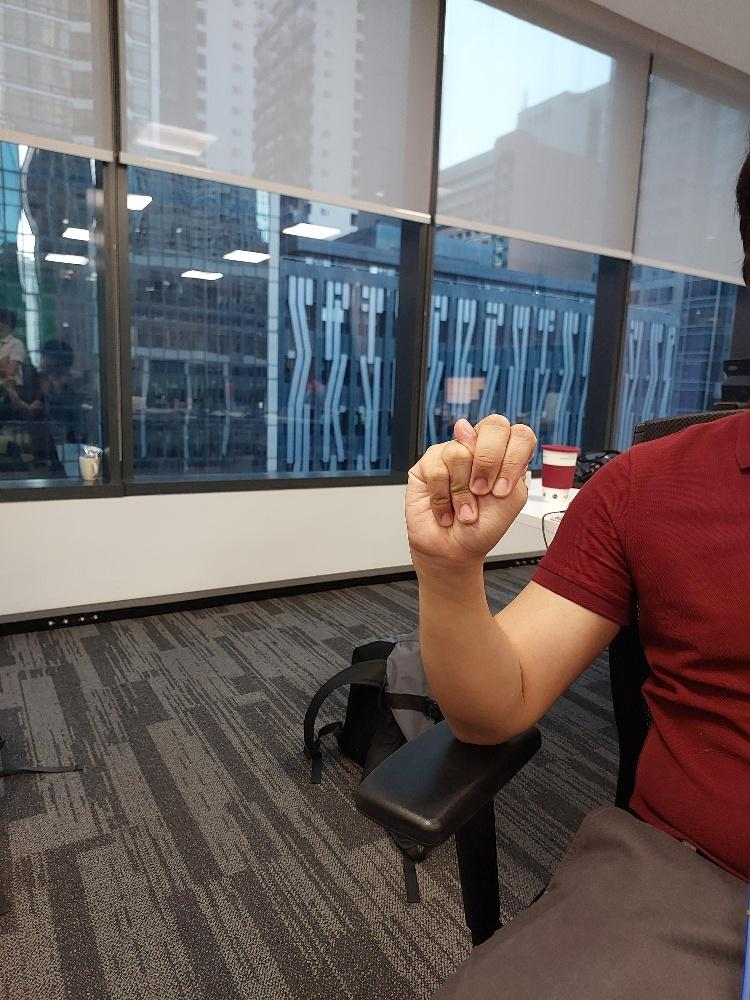n: (401, 409, 539, 568)
